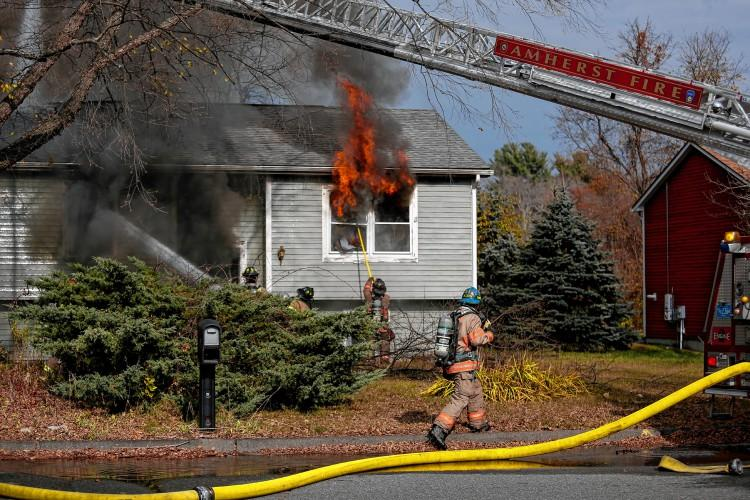fire: (328, 80, 412, 214)
smoke: (58, 107, 241, 274), (370, 55, 411, 152), (306, 42, 369, 84), (351, 184, 376, 218)
